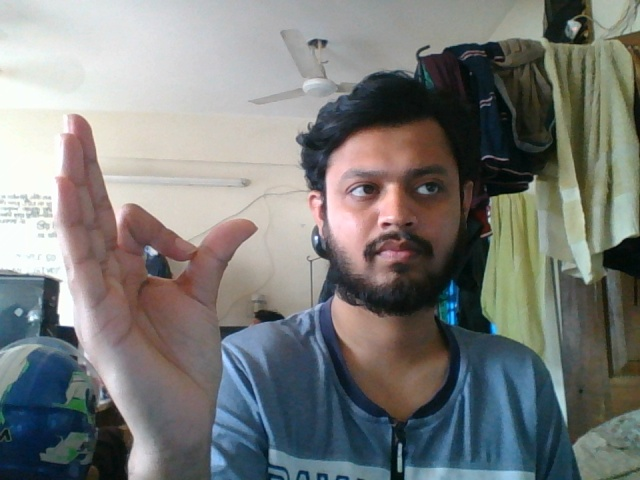uo: (44, 107, 266, 464)
